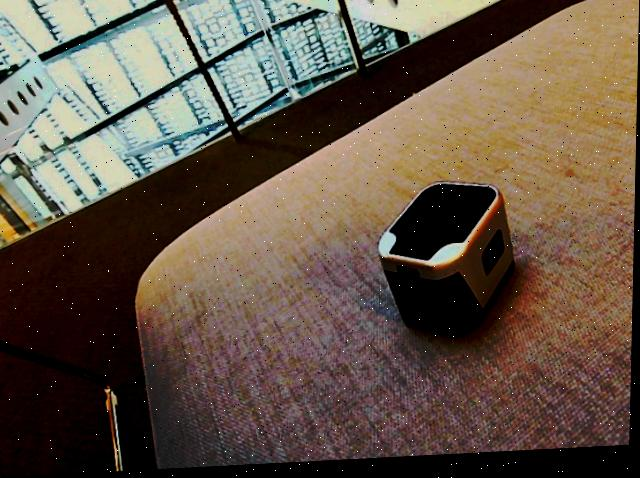adapter: (377, 182, 517, 345)
